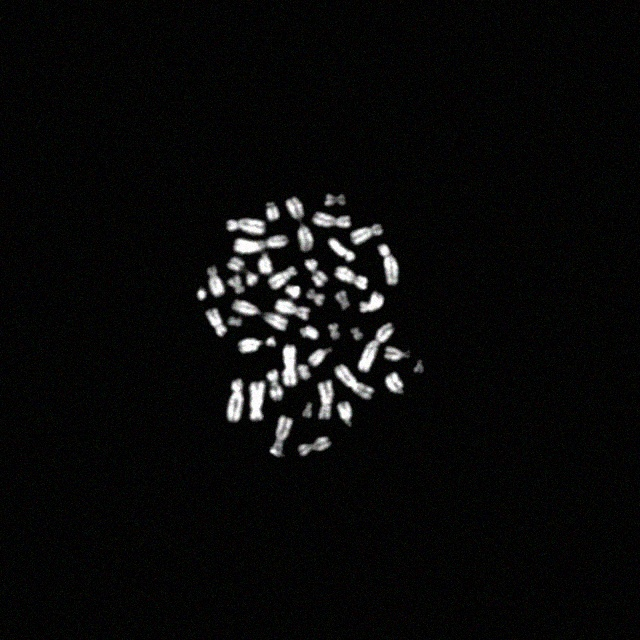chromosome: (358, 322, 394, 372), (232, 300, 288, 332), (286, 197, 312, 253), (336, 364, 374, 400), (235, 236, 288, 254), (270, 414, 292, 456), (334, 266, 368, 290), (379, 244, 399, 284), (226, 380, 244, 422), (302, 258, 328, 286), (268, 266, 297, 290), (226, 218, 266, 235), (276, 300, 310, 320), (328, 238, 356, 262), (351, 224, 383, 244), (250, 381, 266, 421), (299, 436, 331, 456), (282, 344, 296, 388), (312, 212, 350, 228), (206, 309, 227, 337), (318, 380, 332, 420), (208, 265, 225, 297), (360, 292, 384, 312), (308, 348, 332, 367), (268, 369, 282, 401), (385, 372, 405, 394), (384, 346, 410, 360), (338, 402, 352, 426), (306, 288, 324, 306), (240, 339, 262, 353), (228, 276, 245, 294), (258, 253, 272, 274), (335, 290, 349, 310), (228, 256, 245, 272), (266, 201, 279, 221), (300, 326, 318, 340), (284, 284, 300, 298), (298, 364, 312, 380), (326, 194, 344, 206), (246, 270, 258, 286), (328, 324, 339, 340), (351, 328, 364, 340), (228, 316, 242, 326), (302, 404, 312, 418), (196, 288, 206, 300), (413, 360, 422, 372), (266, 336, 276, 346)
